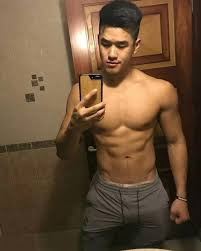people: (55, 2, 190, 251)
